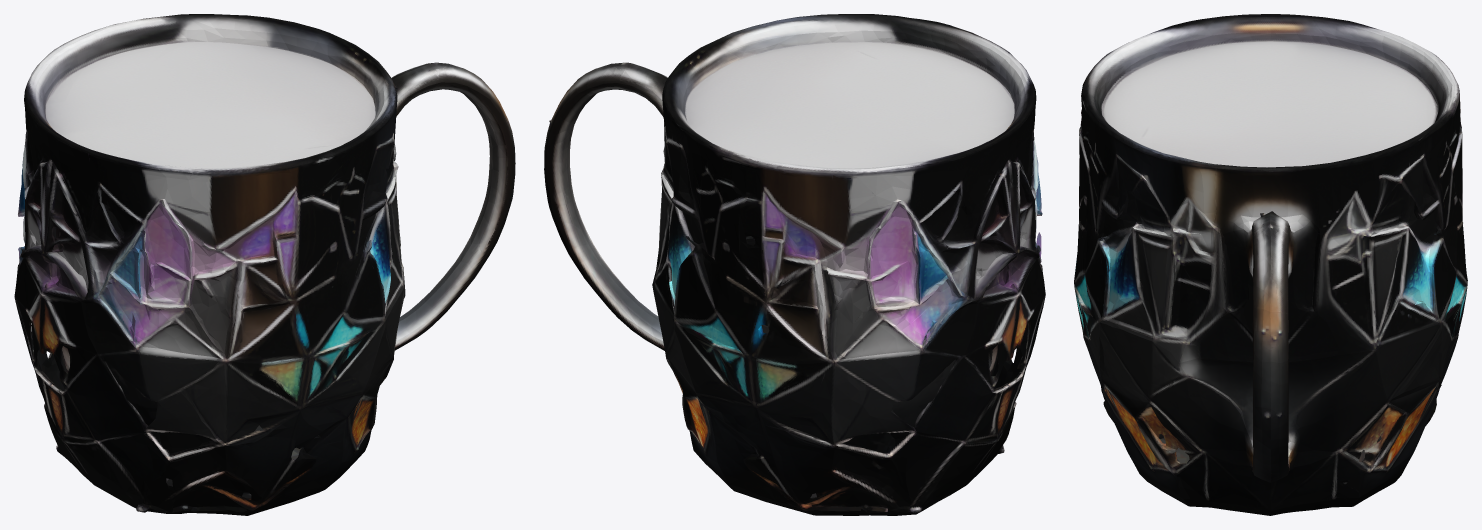
The model's file is porcelain-coffee-mug-futuristic.jpeg.glb.
3 renders of one model, left to right at view 1: azimuth 30°, elevation 25°; view 2: azimuth 150°, elevation 25°; view 3: azimuth 270°, elevation 25°, orthographic.
Visible parts, largest first — view 1: world; view 2: world; view 3: world.
Boxes of the visible parts, <box> form: world: <box>14,14,515,515</box>; world: <box>544,14,1045,515</box>; world: <box>1074,14,1467,515</box>.
Size of the model in its own units: 0.9999 by 0.7449 by 0.7248.
Materials: 1 (1 with a texture image).
